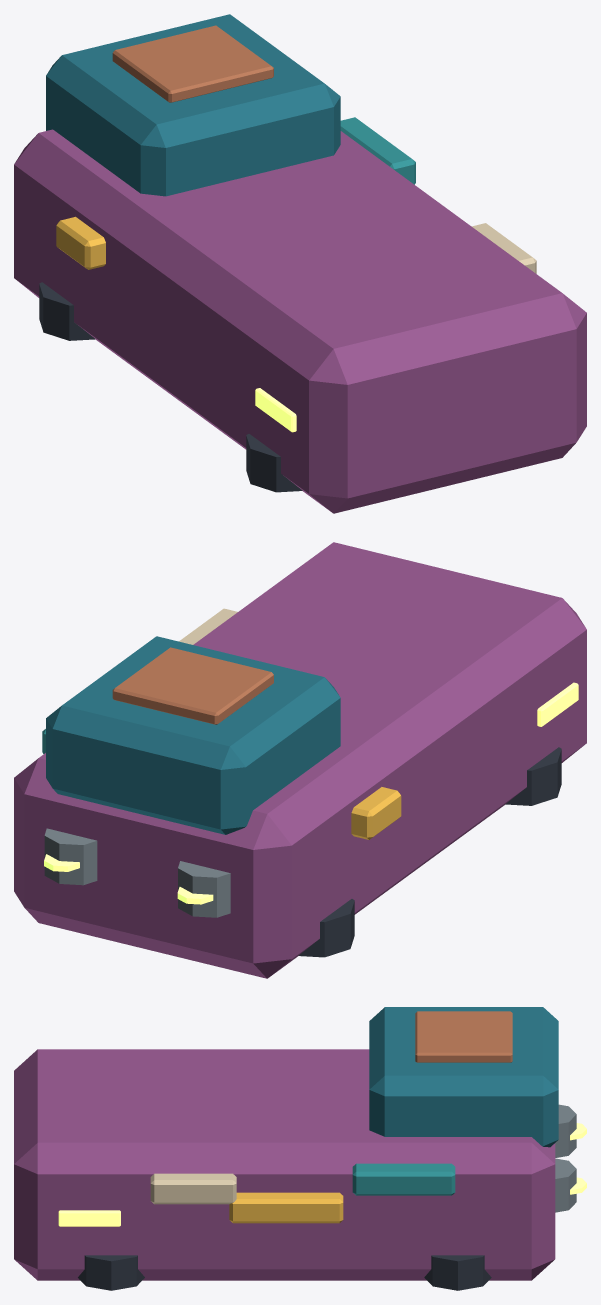
The model's file is vehicles_007_seed100.glb.
The picture shows the model from 3 angles, top to bottom: view 1: azimuth 30°, elevation 25°; view 2: azimuth 150°, elevation 25°; view 3: azimuth 270°, elevation 25°; orthographic projection. The views are drawn at different scales.
Parts seen in each view (by area): view 1: vehicles_007_seed100; view 2: vehicles_007_seed100; view 3: vehicles_007_seed100.
Part boxes in pixels (x1,y1,x2,y2): vehicles_007_seed100: (14,14,586,513); vehicles_007_seed100: (14,542,586,978); vehicles_007_seed100: (14,1007,586,1290).
Size of the model in its own units: 2.06 by 1.5 by 3.87.
